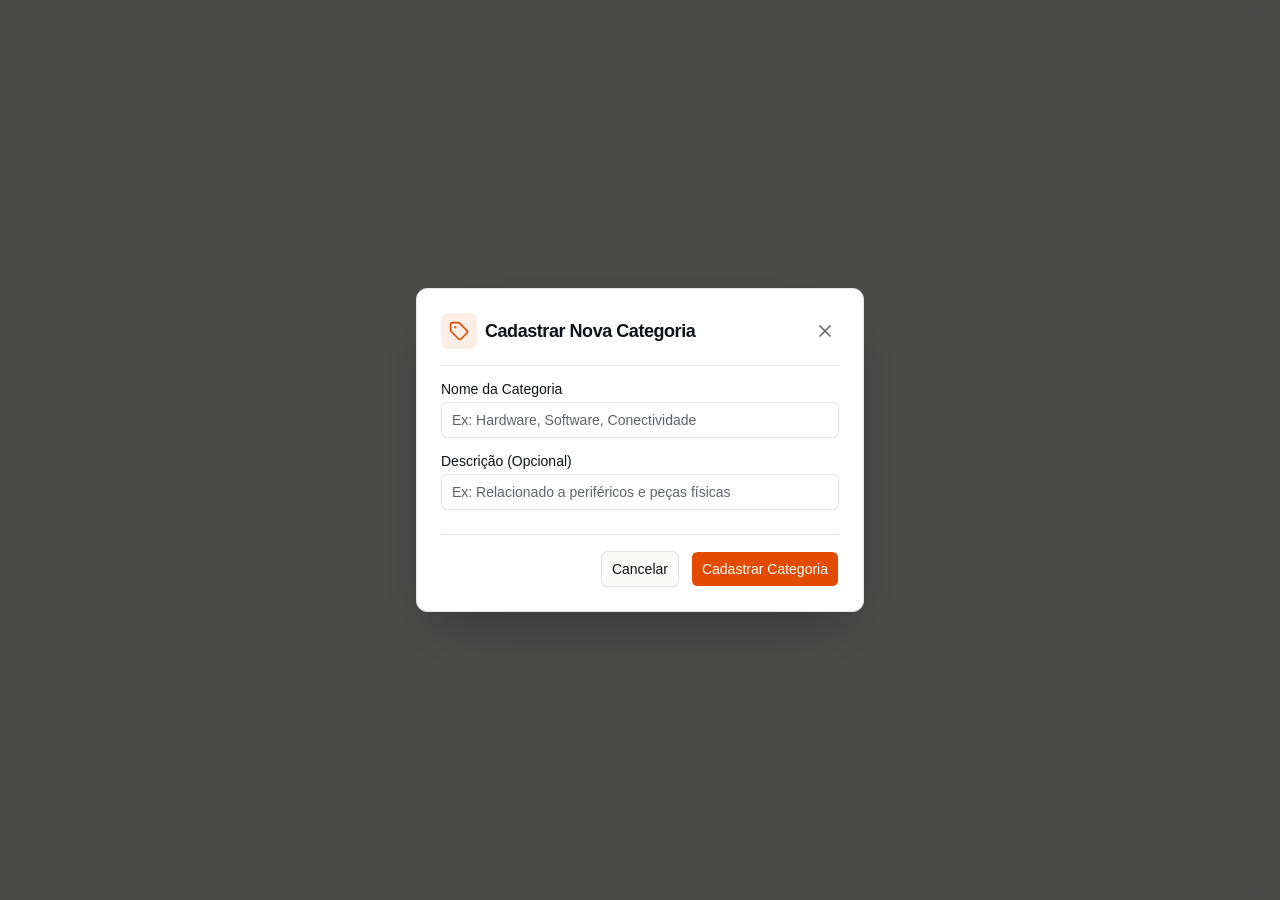
it: CreateCategoryModal › deve exibir erro de validação quando o nome estiver vazio
This screenshot has width=1280, height=900.
What coordinates should you click on to do the following:
click the button "Cadastrar Categoria"
I would click on:
 (765, 569)
Its box is [691,551,839,587].
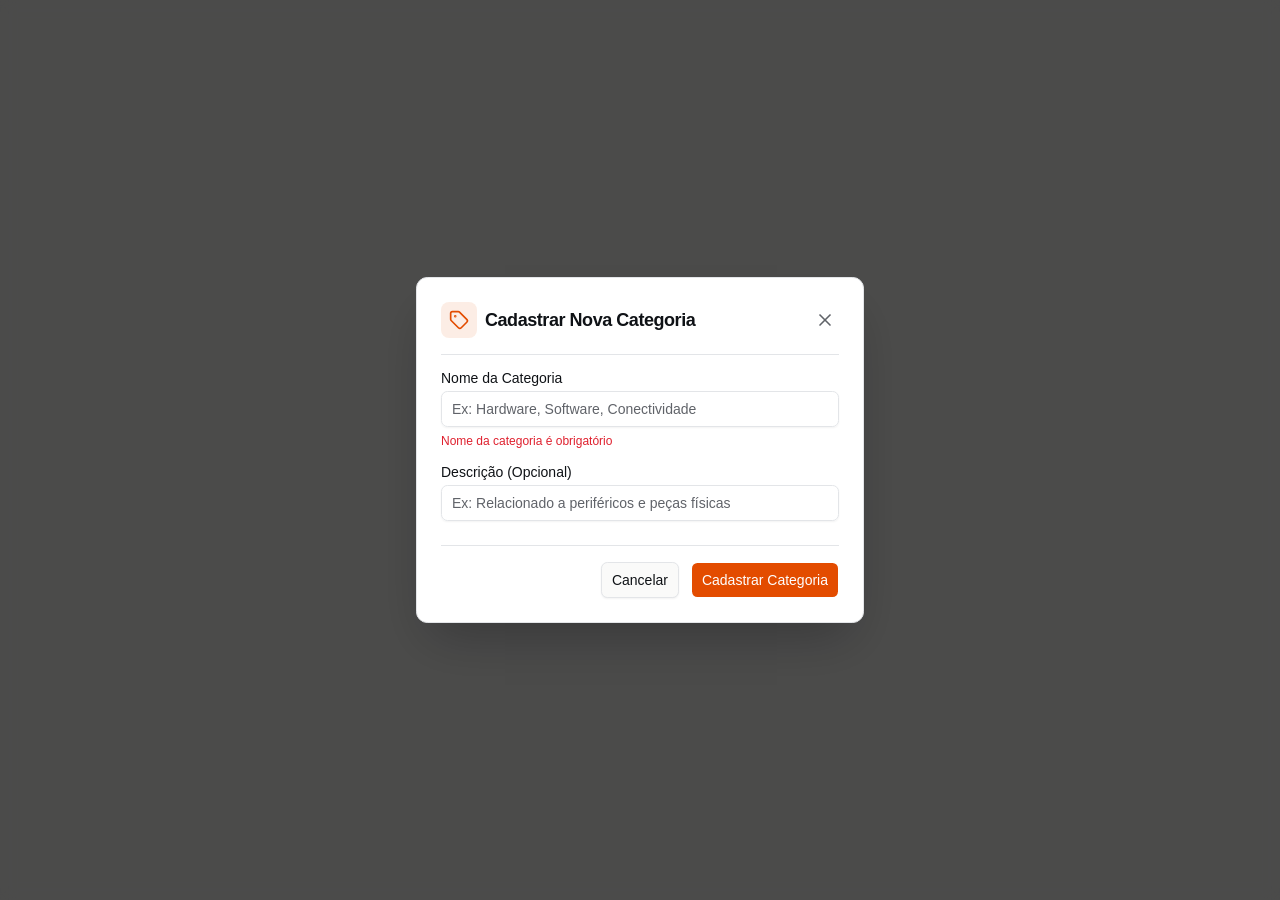
expect the text "Nome da categoria é obrigatório" is shown: met, box [441,434,612,448]
